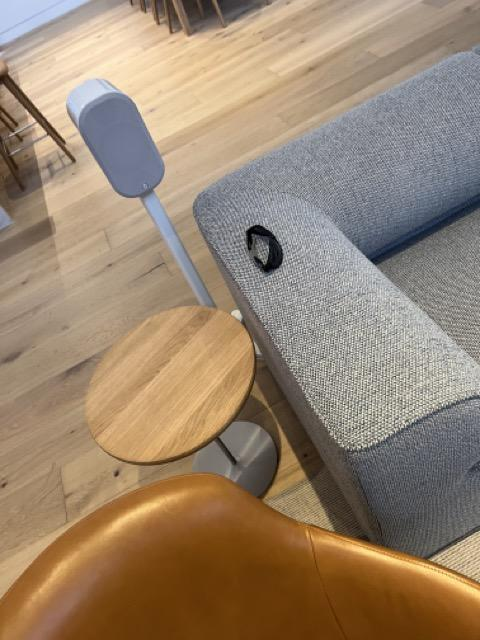Sunglasses: (247, 223, 286, 276)
